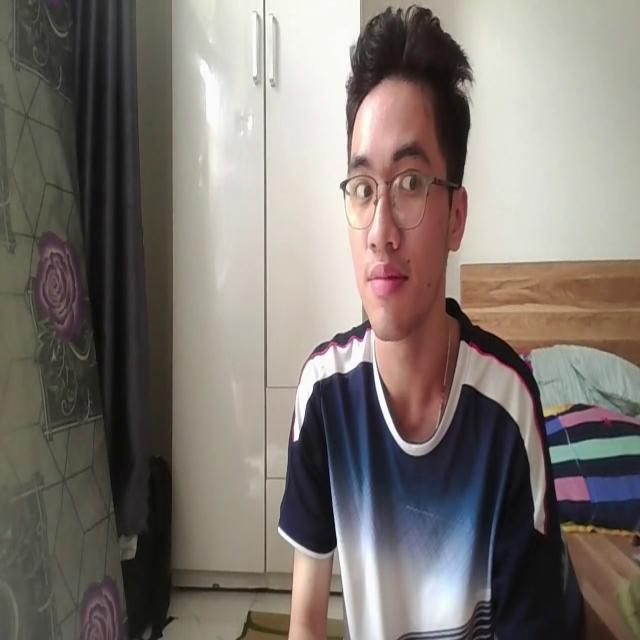student: (279, 6, 573, 640)
